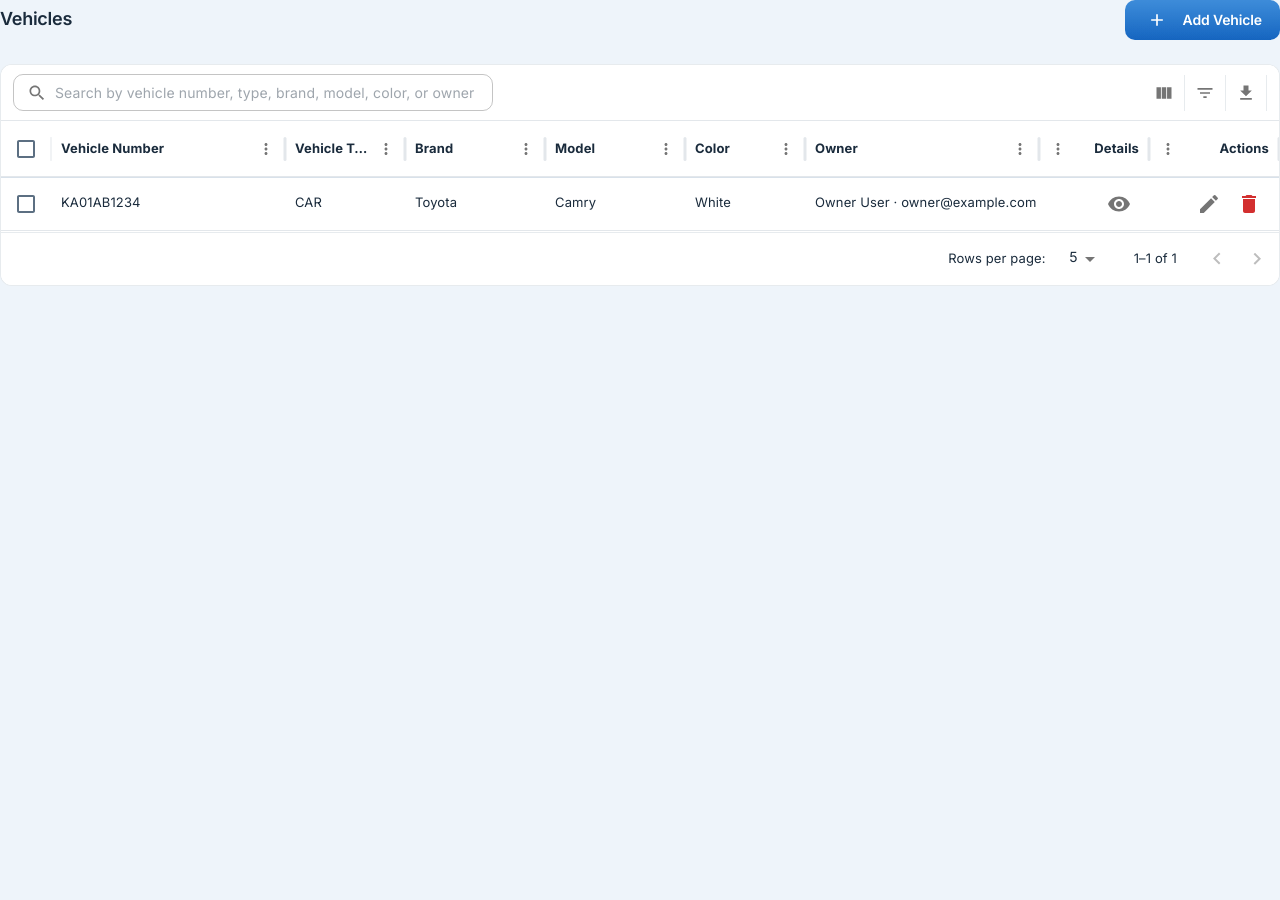
Test: VehiclesPage › opens create dialog and submits new vehicle
Expected: the text "KA01AB1234" is shown, x1=61 y1=195 x2=141 y2=211
Click the button "Add Vehicle" at (1202, 20), box x1=1125 y1=0 x2=1279 y2=40
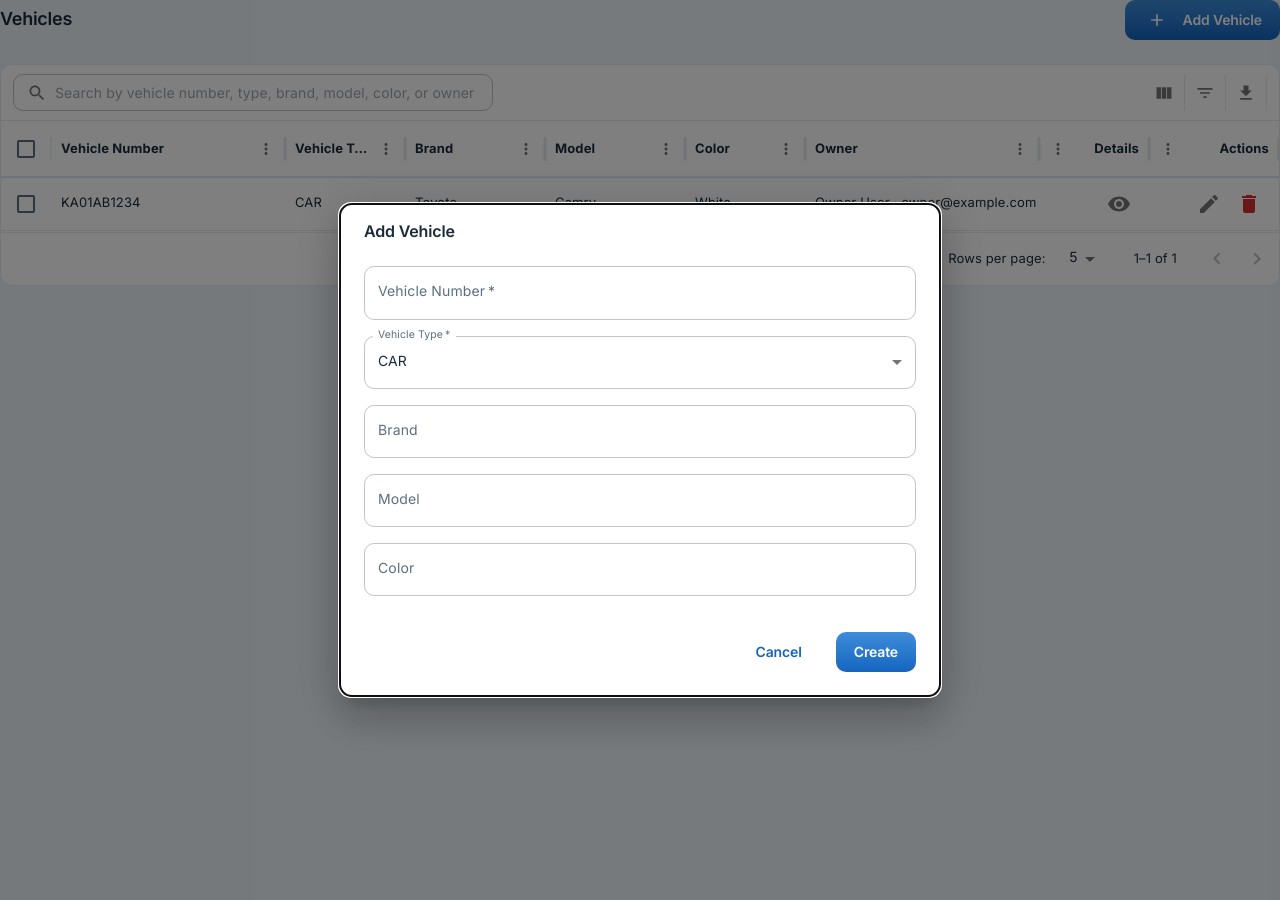
Now the heading "Add Vehicle" is shown, box x1=364 y1=221 x2=455 y2=241
Type "DL01ZZ1111" into the field labelled "Vehicle Number *" at (640, 293), box x1=364 y1=266 x2=916 y2=320
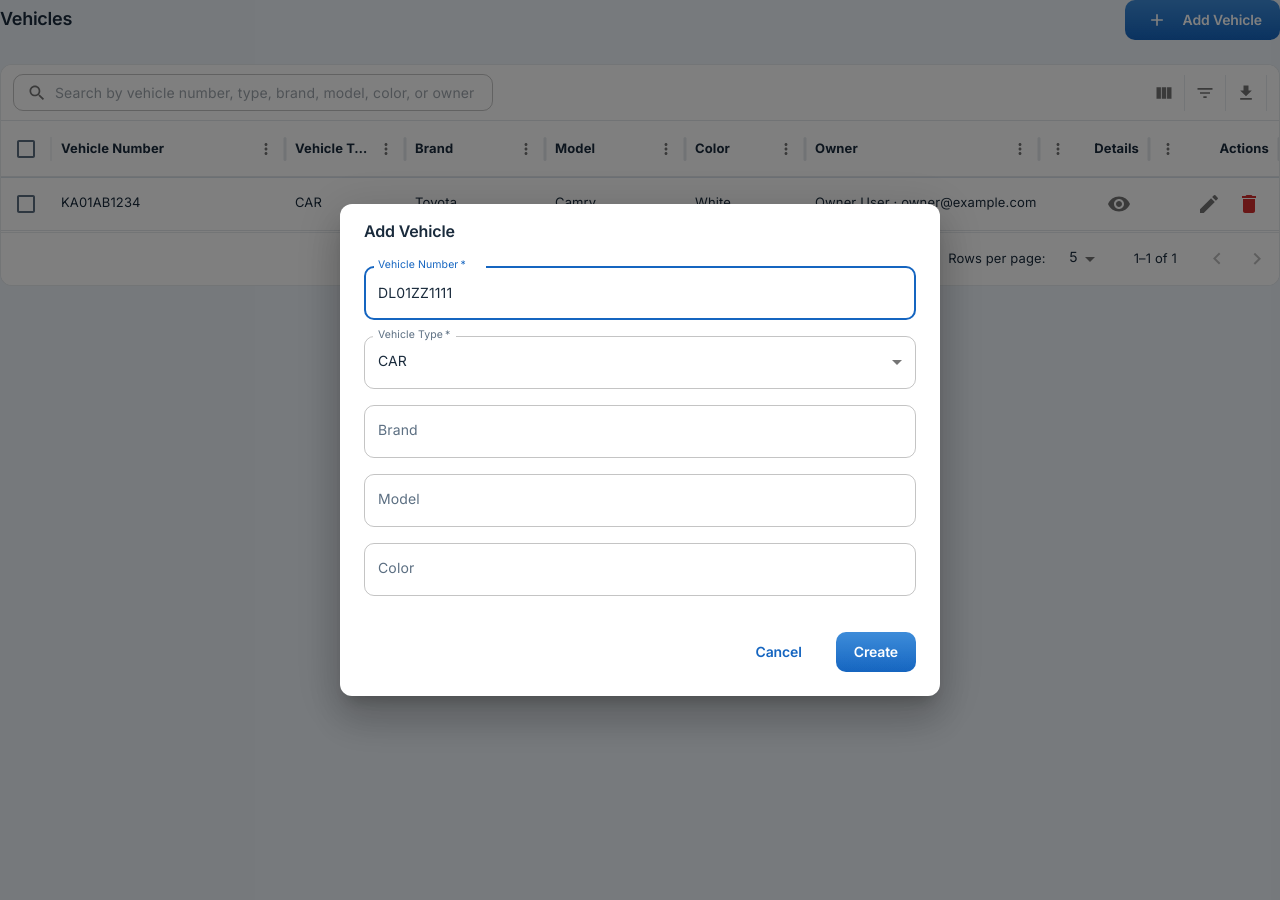
Click the button "Create" at (876, 652), box x1=836 y1=632 x2=916 y2=672
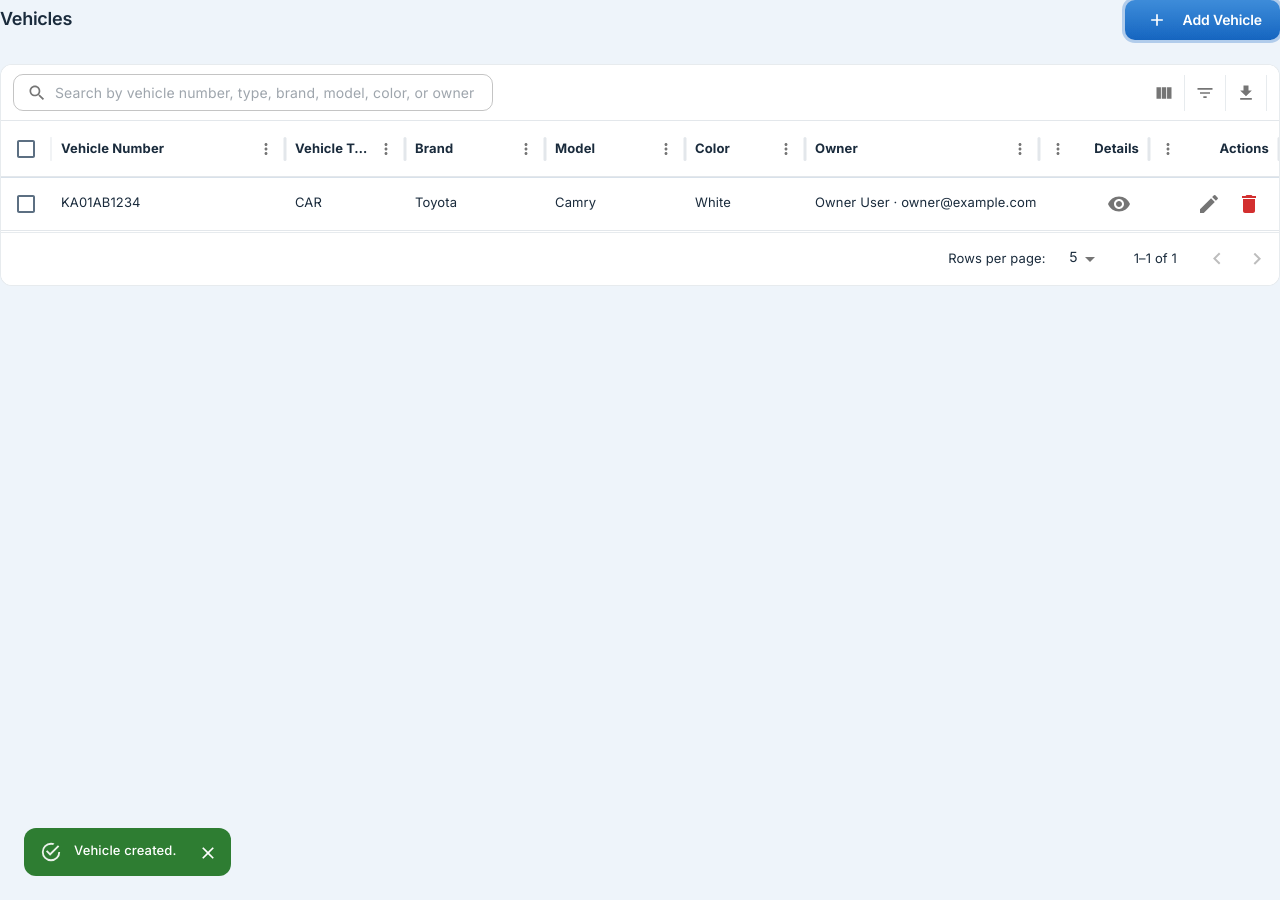
Now the text "Vehicle created." is shown, box x1=74 y1=843 x2=177 y2=859
